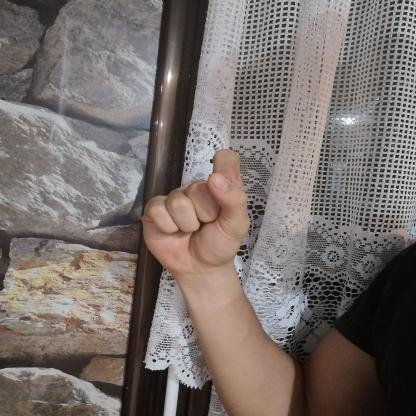FAA: (129, 141, 259, 278)
